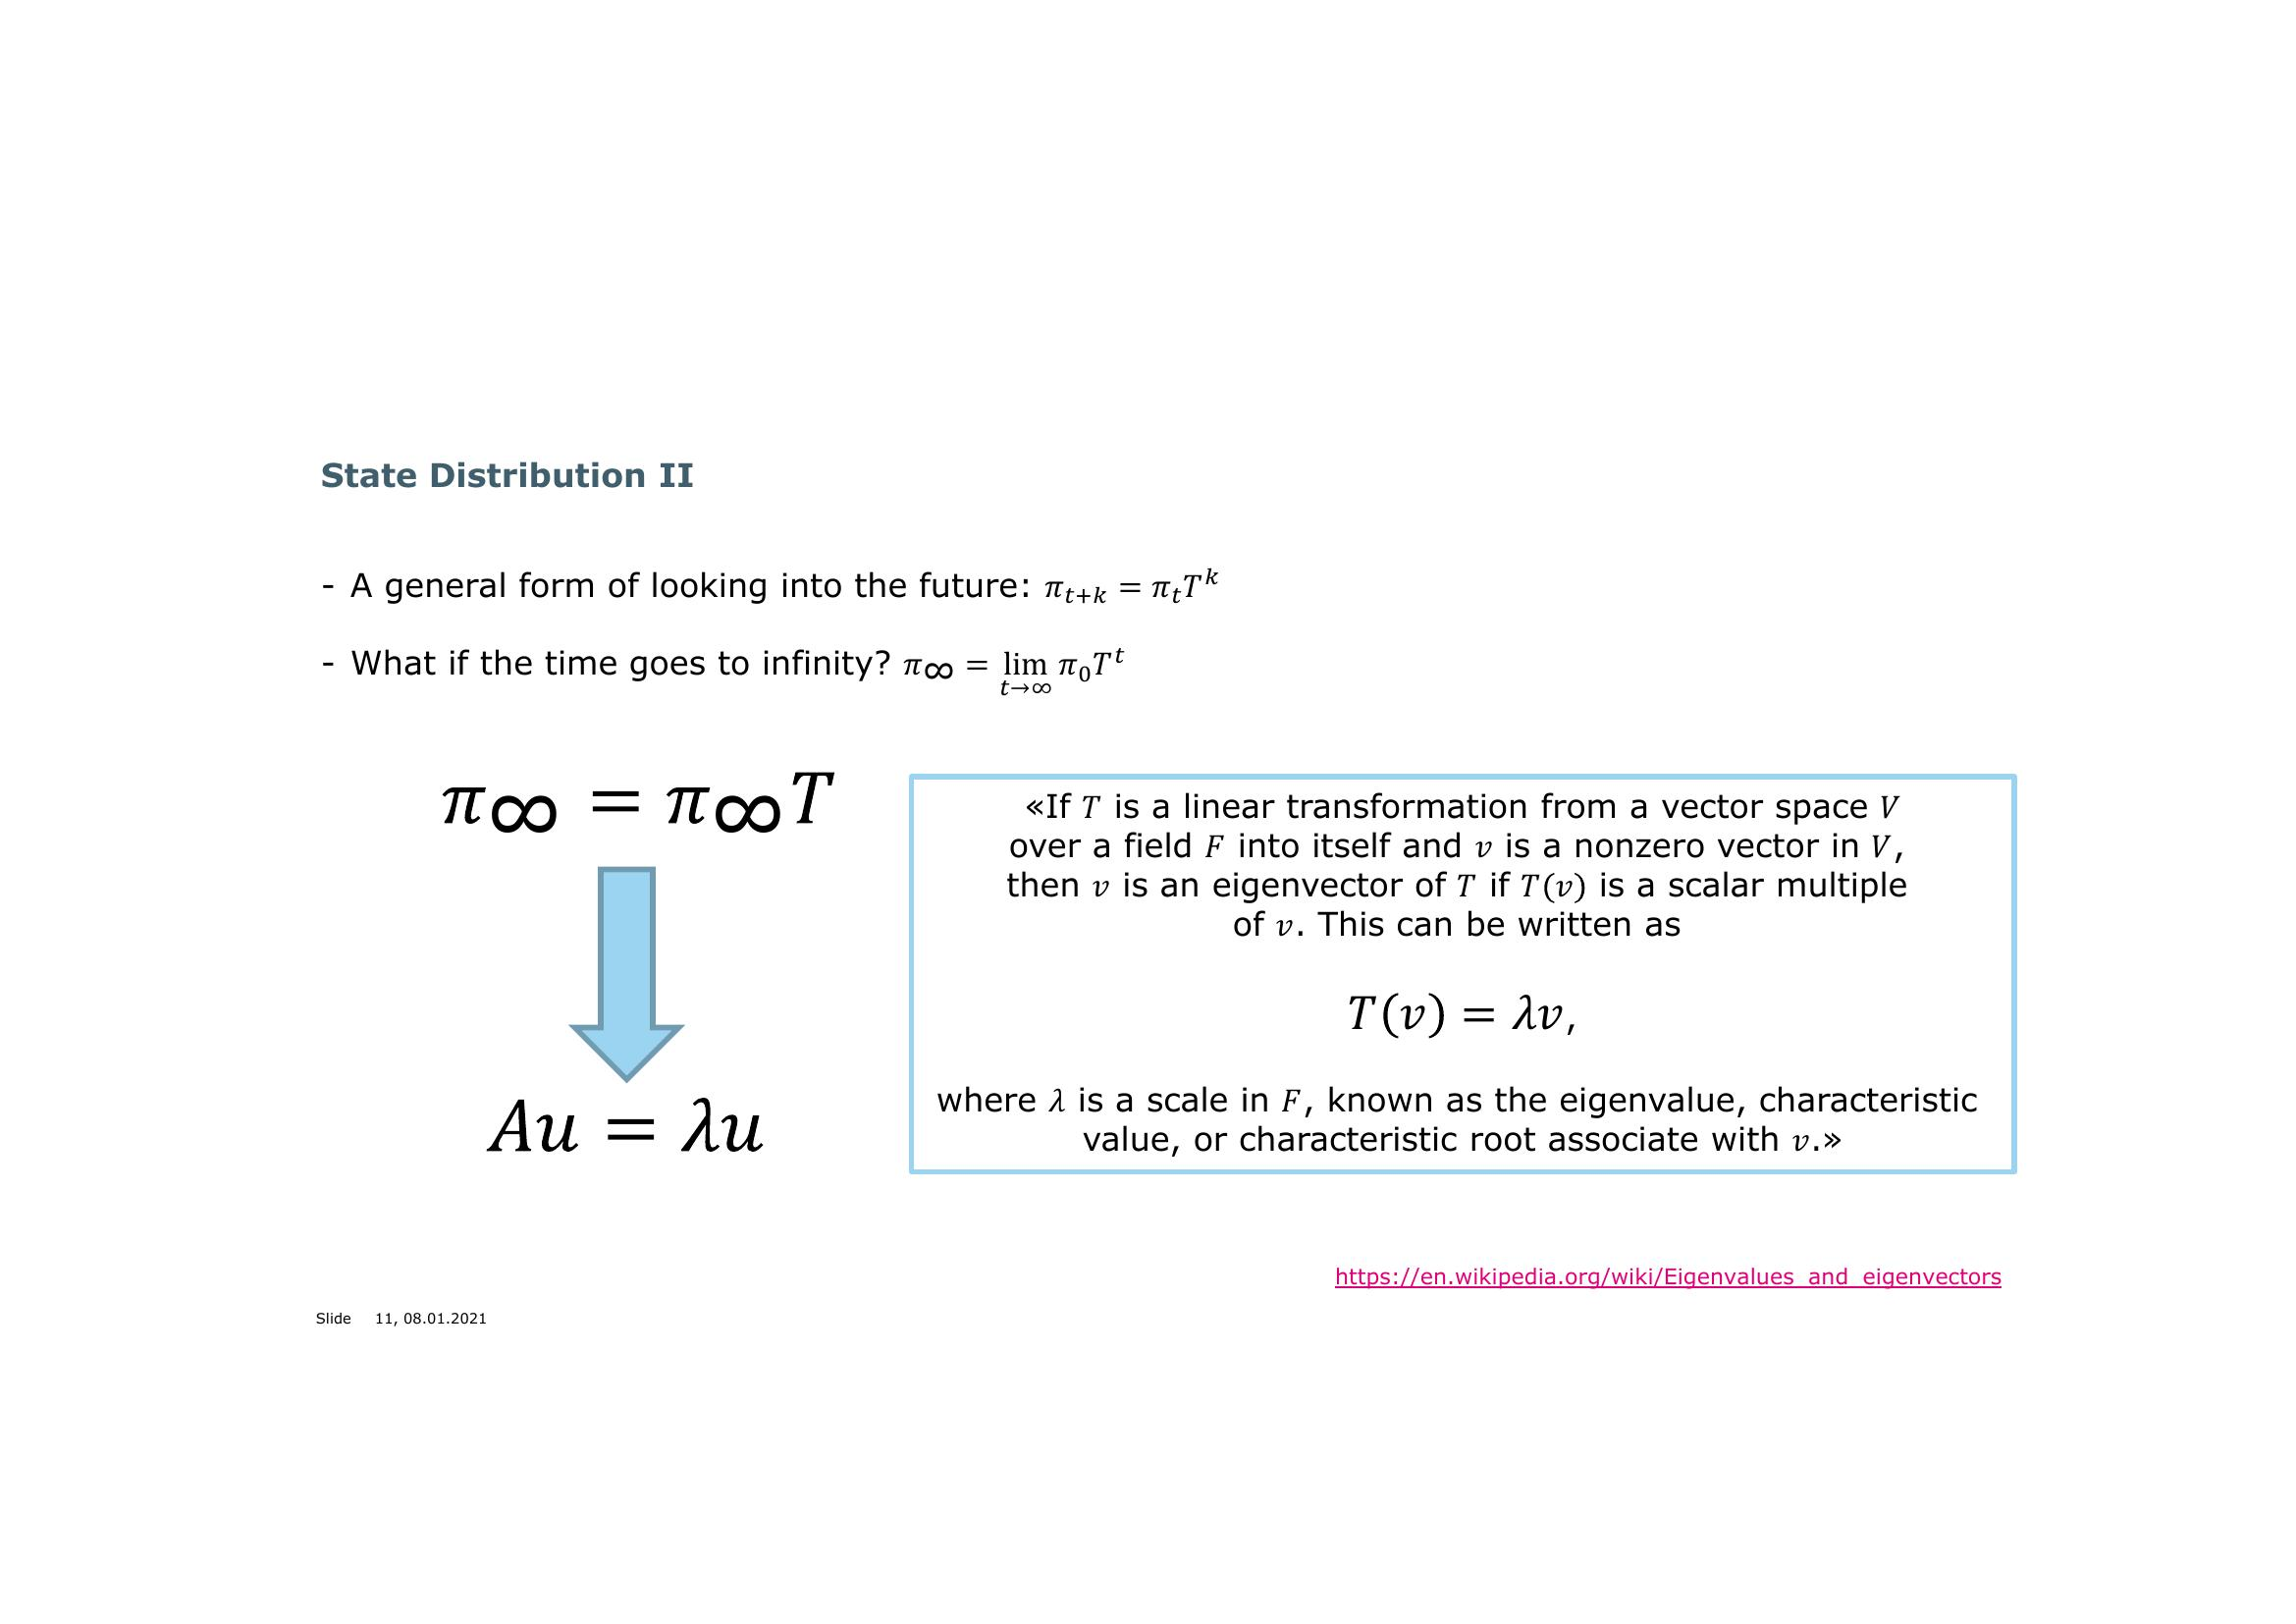Title: (274, 441, 717, 504)
